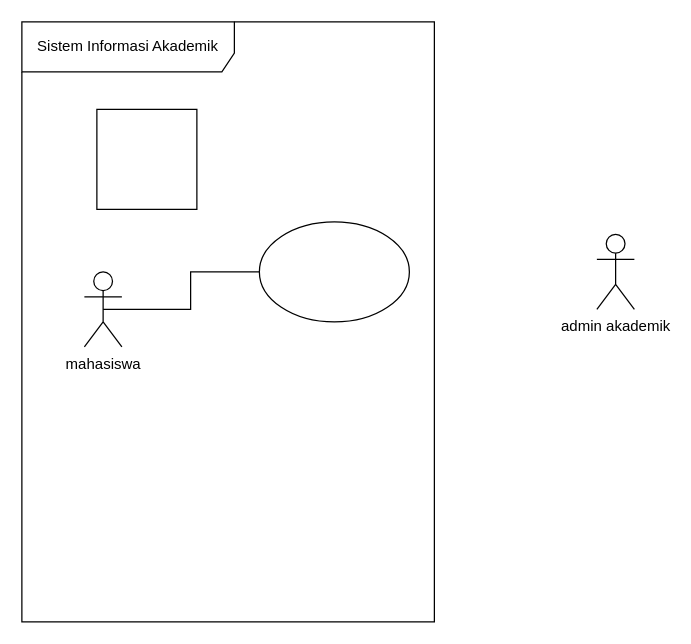
This 691x644 diagram has some shape labels left out. The shapes that lost their labels are listed below. From the top down, each one's box as (x1, y1, x2, y2) in pixels, then its label:
(96, 108, 197, 209): hilat jadwal kuliah
(258, 221, 409, 322): kelola jadwal kuliah
